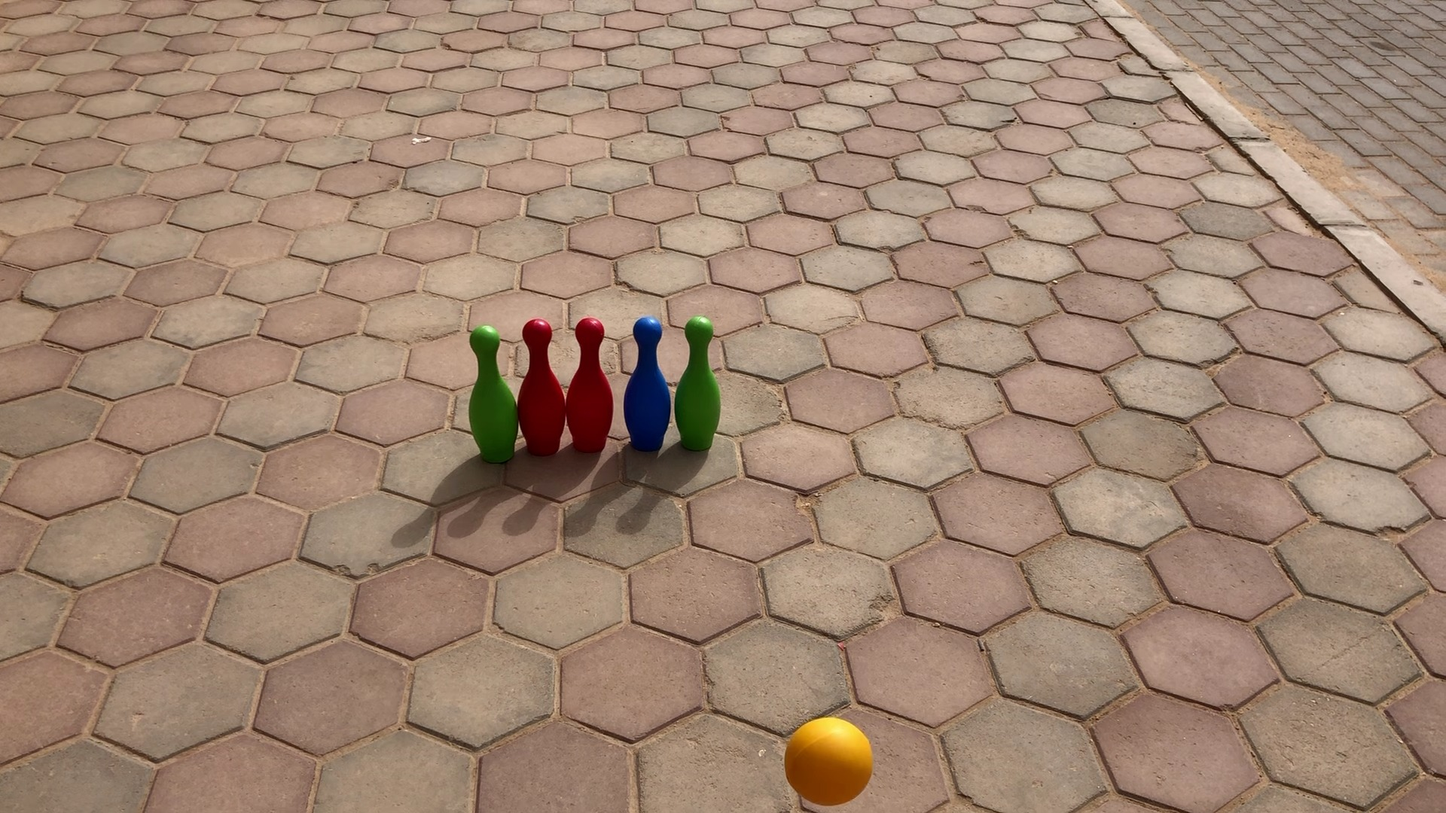bowling-pin: (518, 317, 565, 455), (474, 322, 520, 462), (570, 316, 618, 450), (627, 317, 673, 452), (676, 317, 721, 452)
